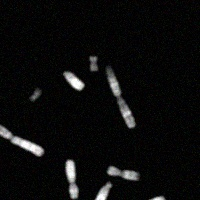chromosome: (106, 65, 136, 128), (0, 123, 43, 156), (65, 159, 78, 198), (61, 71, 84, 91), (107, 166, 139, 180), (93, 181, 111, 200), (115, 196, 166, 200), (31, 88, 41, 102), (89, 56, 98, 71)
